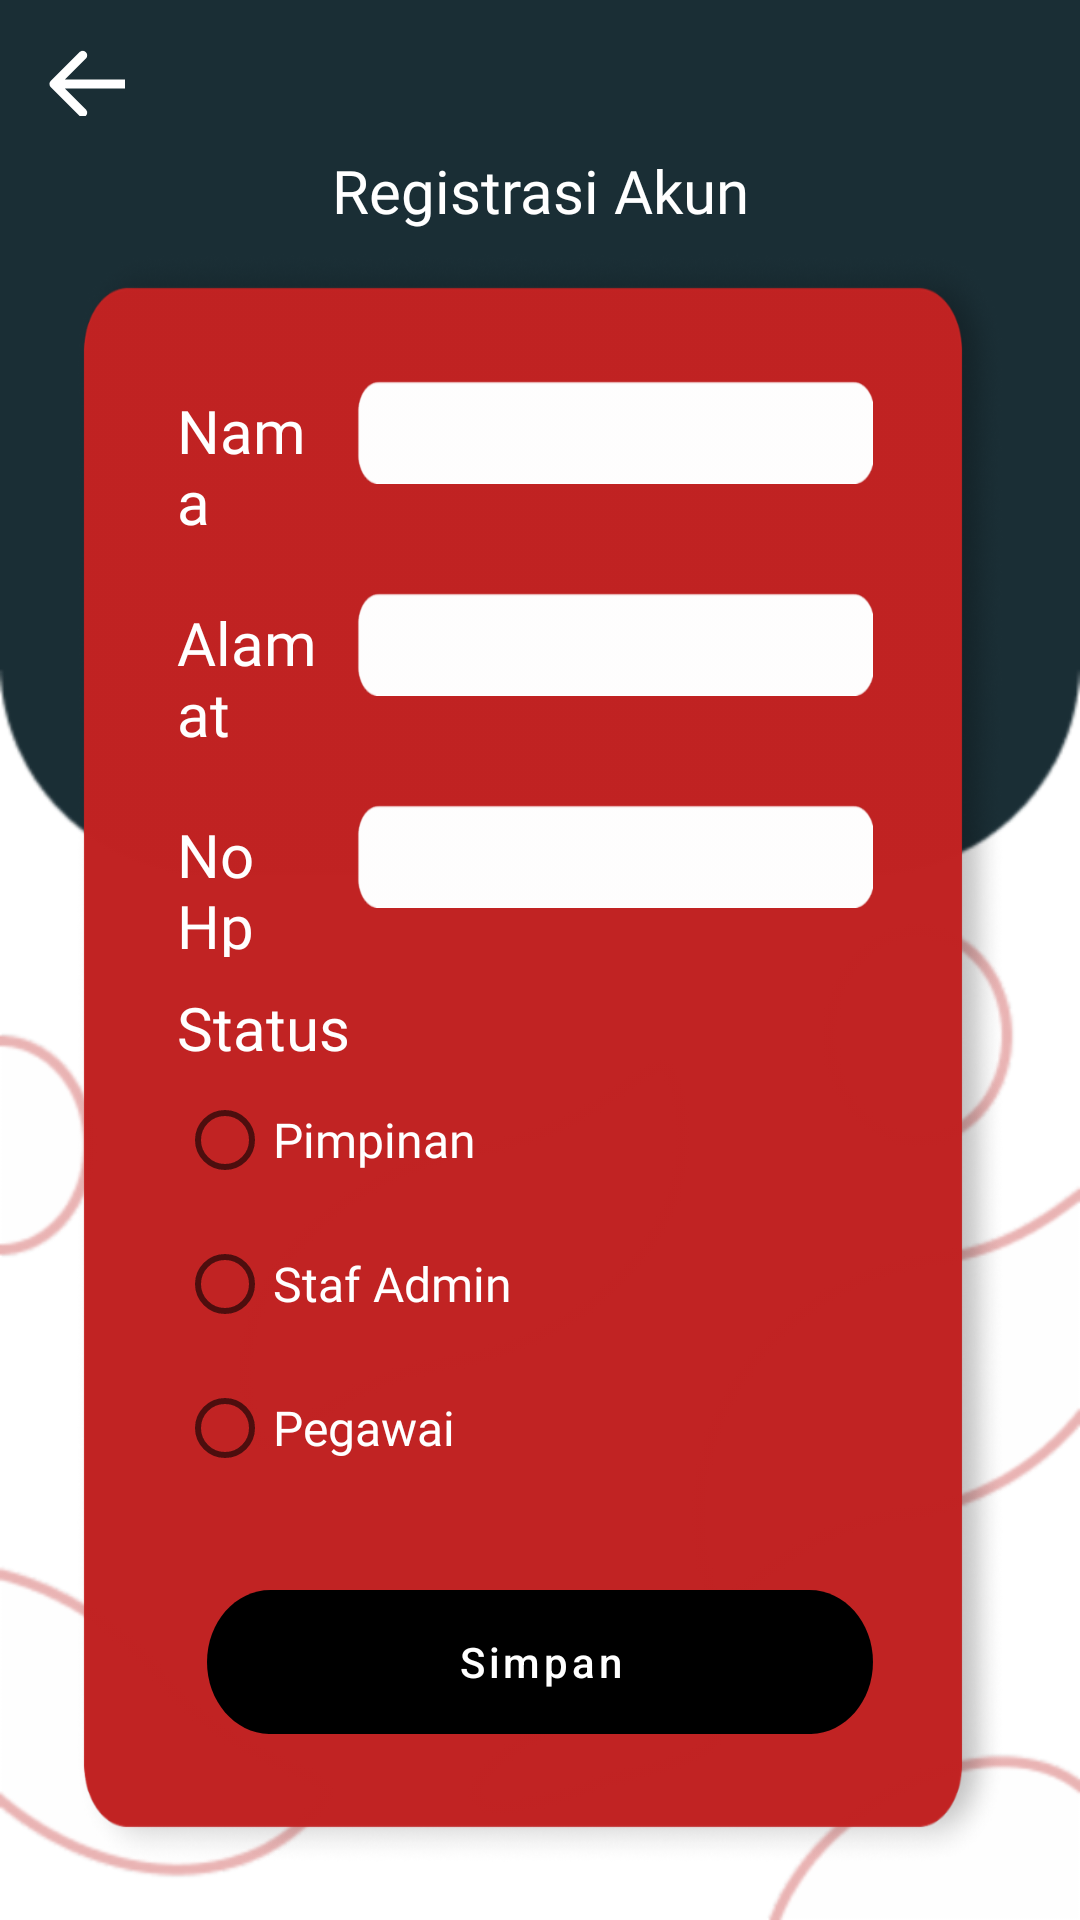

Where icons sit on this 1080w x 1920h app screen, as (x1, y1, x2, y2):
back: (49, 50, 125, 116)
